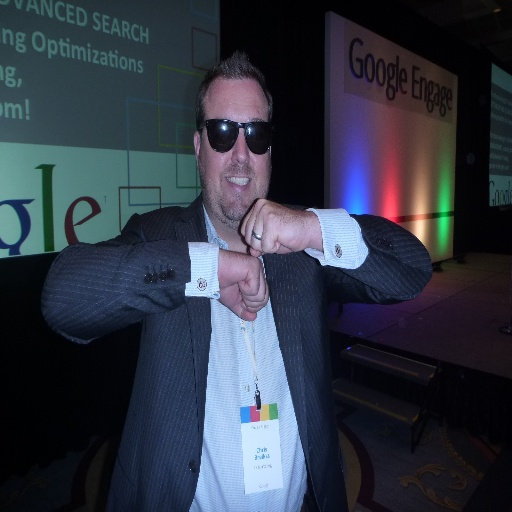hand: (239, 199, 313, 254), (217, 247, 269, 323)
